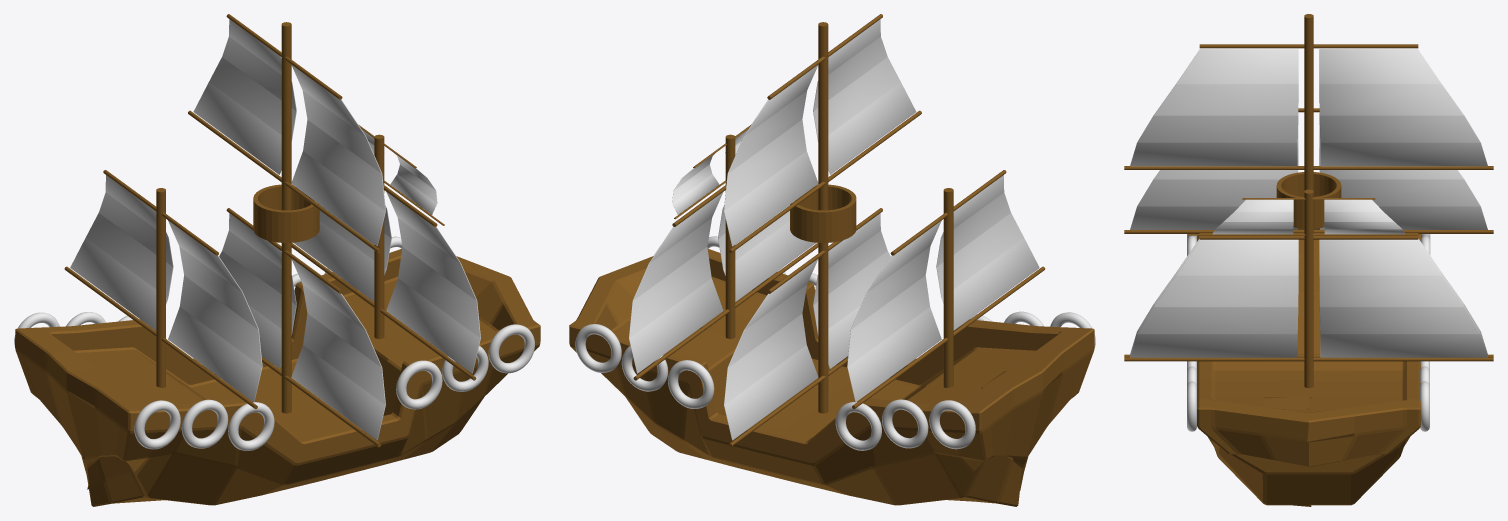
Rendered from kapal.fbx.
3 views of the same model, side by side, from view 1: azimuth 30°, elevation 25°; view 2: azimuth 150°, elevation 25°; view 3: azimuth 270°, elevation 25° (orthographic). The views are drawn at different scales.
Visible parts, largest first — view 1: Cube, Plane.001, Plane, Plane.002, Plane.003, Cylinder, Cylinder.001, Plane.004, Cylinder.002, Torus.002, Torus.007, Torus.008 (+9 smaller); view 2: Cube, Plane.001, Plane, Plane.002, Plane.003, Cylinder, Cylinder.001, Plane.004, Cylinder.002, Torus.005, Torus.010, Torus.011 (+9 smaller); view 3: Plane.001, Plane.003, Cube, Plane, Plane.004, Cylinder, Cylinder.002, Cylinder.009, Cylinder.005, Cylinder.006, Plane.002, Cylinder.010 (+4 smaller).
Boxes of the visible parts, x1,y1,x2,y2 form: Cube: (15, 248, 540, 506); Plane.001: (193, 19, 385, 246); Plane: (70, 175, 262, 402); Plane.002: (219, 213, 385, 440); Plane.003: (293, 192, 480, 373); Cylinder: (253, 22, 319, 413); Cylinder.001: (156, 188, 165, 387); Plane.004: (361, 129, 437, 214); Cylinder.002: (374, 134, 384, 338); Torus.002: (396, 360, 442, 409); Torus.007: (181, 399, 228, 448); Torus.008: (134, 400, 180, 449); Cube: (569, 249, 1094, 506); Plane.001: (724, 19, 916, 246); Plane: (847, 175, 1039, 402); Plane.002: (724, 213, 890, 440); Plane.003: (629, 192, 816, 373); Cylinder: (790, 22, 856, 413); Cylinder.001: (943, 188, 953, 387); Plane.004: (672, 129, 747, 214); Cylinder.002: (725, 134, 735, 338); Torus.005: (667, 360, 714, 408); Torus.010: (882, 399, 928, 448); Torus.011: (929, 400, 975, 449); Plane.001: (1130, 49, 1487, 166); Plane.003: (1130, 240, 1487, 357); Cube: (1197, 228, 1420, 506); Plane: (1130, 113, 1487, 229); Plane.004: (1212, 199, 1405, 234); Cylinder: (1276, 14, 1341, 228); Cylinder.002: (1304, 189, 1313, 387); Cylinder.009: (1124, 357, 1493, 361); Cylinder.005: (1124, 166, 1493, 169); Cylinder.006: (1199, 44, 1418, 48); Plane.002: (1130, 238, 1487, 354); Cylinder.010: (1199, 236, 1418, 239).
Bounding box in the file's own units: 8279 × 7862 × 6094.
